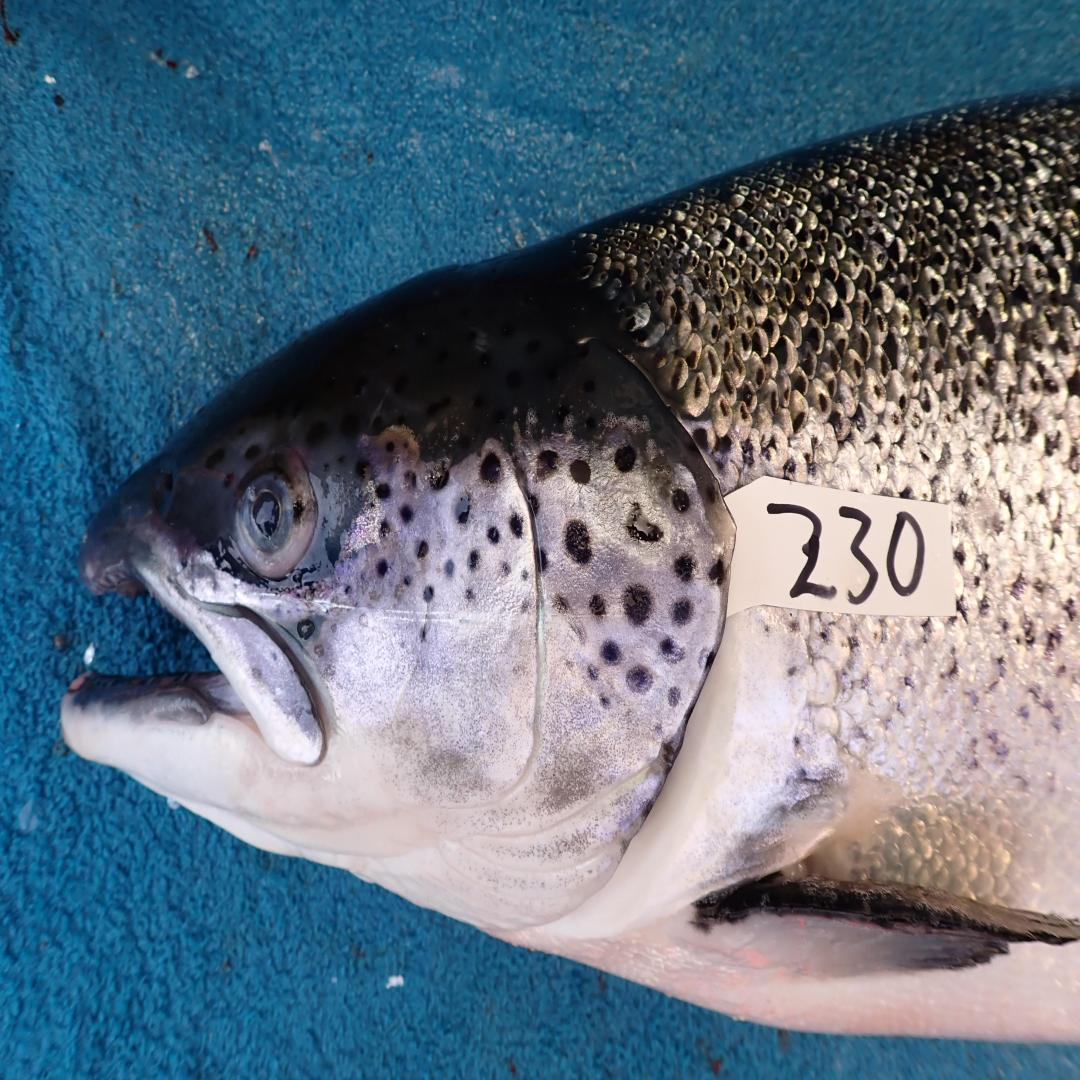spot: (626, 503, 662, 543), (565, 520, 593, 565), (622, 585, 652, 624), (297, 613, 323, 641), (626, 667, 652, 692), (698, 641, 717, 675), (660, 636, 683, 664), (536, 450, 559, 478), (614, 444, 637, 472), (481, 453, 500, 484), (675, 554, 696, 582), (570, 458, 591, 484), (671, 599, 692, 624), (548, 591, 570, 613), (601, 641, 620, 664), (709, 560, 726, 585), (430, 467, 449, 489), (378, 518, 394, 543), (456, 495, 470, 523), (673, 489, 690, 512), (373, 557, 390, 579), (589, 593, 605, 616), (397, 574, 413, 596), (508, 515, 523, 537), (401, 470, 418, 489), (498, 557, 513, 577), (527, 492, 540, 515), (599, 692, 612, 712), (375, 482, 390, 499), (669, 686, 681, 706), (538, 548, 548, 571), (418, 622, 430, 641), (487, 526, 500, 543), (521, 596, 534, 613), (464, 585, 477, 602), (422, 585, 435, 602), (468, 551, 479, 571), (401, 506, 413, 523), (418, 540, 428, 560), (589, 664, 599, 681), (445, 560, 454, 577), (521, 568, 529, 580), (344, 585, 352, 596)
